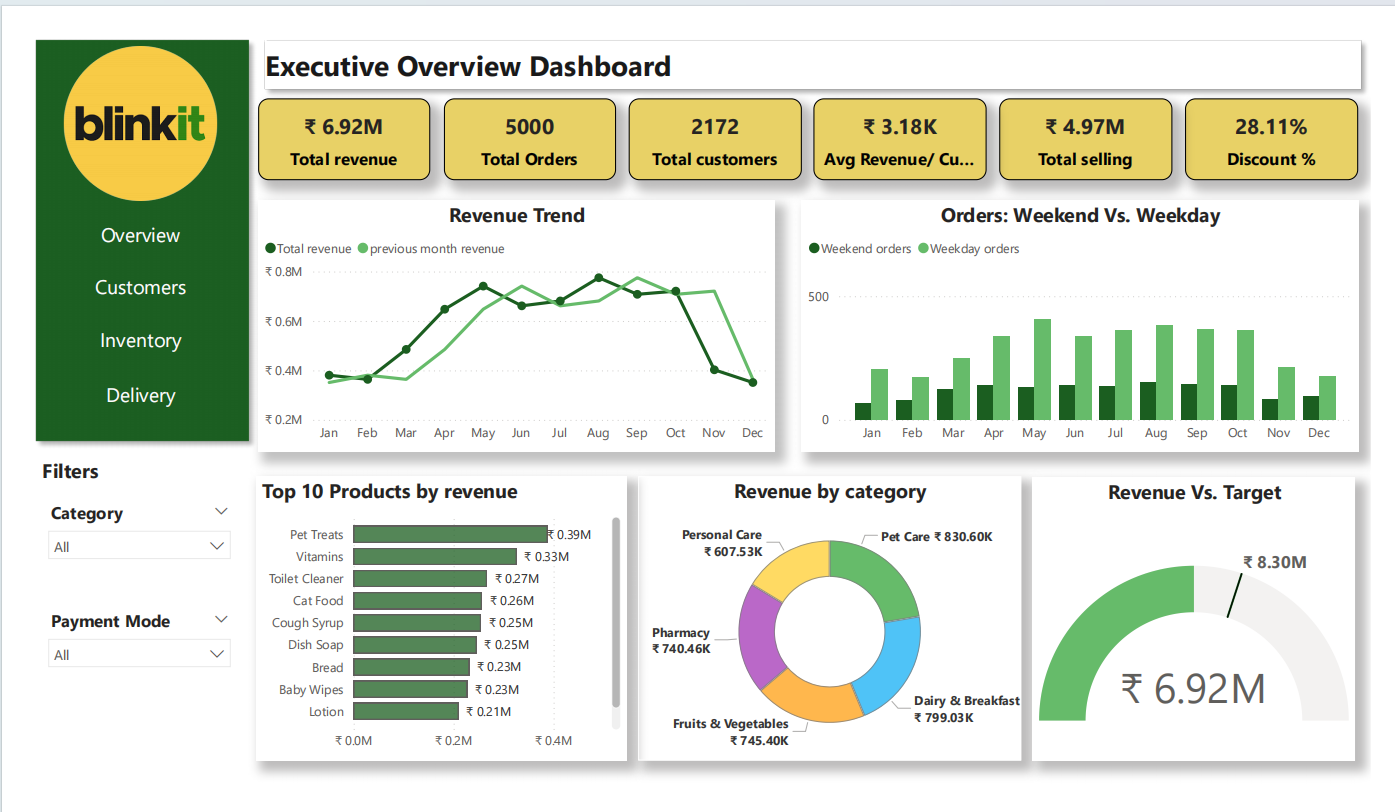

The page's visual inventory and layout, read from the dashboard file:
{"tool":"powerbi","page":{"name":"Page 1","canvas":[1280,720],"ordinal":0},"visuals":[{"type":"shape","box":[0,0,219.9,399.2],"z":0},{"type":"image","box":[12.5,14.6,190.3,146.4],"z":1000},{"type":"actionButton","box":[13,161.3,190.6,63.5],"z":2000},{"type":"actionButton","box":[13,212.7,190.6,58.7],"z":3000},{"type":"actionButton","box":[13,264.4,190.6,58.7],"z":4000},{"type":"actionButton","box":[13,316.1,190.6,58.7],"z":5000},{"type":"shape","title":"Executive Overview Dashboard","box":[218.3,0,1060.6,63.5],"z":6000},{"type":"slicer","title":"Category","fields":{"Values":["Customers.City"]},"box":[9.8,443.1,193.9,86.3],"z":7000},{"type":"textbox","box":[9.8,400.8,210.2,42.4],"z":8000},{"type":"slicer","title":"Category","fields":{"Values":["Customers.customer_segment"]},"box":[9.8,545.8,193.9,86.3],"z":9000},{"type":"card","fields":{"Values":["Dax measures.Total revenue"]},"box":[219.9,63.5,164.5,78.2],"z":10000},{"type":"card","fields":{"Values":["Dax measures.Total Orders"]},"box":[396.5,63.5,164.5,78.2],"z":11000},{"type":"card","fields":{"Values":["Dax measures.Total customers"]},"box":[573.1,63.5,164.5,78.2],"z":12000},{"type":"card","fields":{"Values":["Dax measures.Discount %"]},"box":[1103,63.5,164.5,78.2],"z":13000},{"type":"card","fields":{"Values":["Dax measures.Total selling"]},"box":[926.4,63.5,164.5,78.2],"z":14000},{"type":"card","fields":{"Values":["Dax measures.Avg revenue per customer"]},"box":[749.4,63.5,164.5,78.2],"z":15000},{"type":"lineChart","title":"Revenue Trend","fields":{"Category":["Calender.Month"],"Y":["Dax measures.Total revenue"],"Y2":["Dax measures.previous month revenue"]},"box":[219.9,161.3,492,239.5],"z":16000},{"type":"clusteredColumnChart","title":"Orders: Weekend Vs. Weekday","fields":{"Category":["Calender.Month"],"Y":["Dax measures.Weekend orders","Dax measures.Weekday orders"]},"box":[738,161.3,529.5,239.5],"z":17000},{"type":"clusteredBarChart","title":"Top 10 Products by revenue","fields":{"Category":["Products.product_name"],"Y":["Dax measures.Total revenue"]},"box":[217.8,424.1,353.5,270.4],"z":18000},{"type":"donutChart","title":"Revenue by category","fields":{"Category":["Products.category"],"Y":["Dax measures.Total revenue"]},"box":[582.1,424.1,364.9,270.4],"z":19000},{"type":"gauge","title":"Revenue Vs. Target","fields":{"TargetValue":["Dax measures.Revenue target"],"Y":["Dax measures.Total revenue"]},"box":[957.8,424.6,307,270],"z":20000}]}

Visuals, with their boxes on the page's 1280x720 design canvas (x1, y1, x2, y2). These are canvas units, not pixel positions in the 1395x812 screenshot, which may show the page scaled, cropped or inside an application window:
shape: 0, 0, 220, 399
image: 12, 15, 203, 161
actionButton: 13, 161, 204, 225
actionButton: 13, 213, 204, 271
actionButton: 13, 264, 204, 323
actionButton: 13, 316, 204, 375
"Executive Overview Dashboard" shape: 218, 0, 1279, 64
"Category" slicer: 10, 443, 204, 529
textbox: 10, 401, 220, 443
"Category" slicer: 10, 546, 204, 632
card - Dax measures.Total revenue: 220, 64, 384, 142
card - Dax measures.Total Orders: 396, 64, 561, 142
card - Dax measures.Total customers: 573, 64, 738, 142
card - Dax measures.Discount %: 1103, 64, 1268, 142
card - Dax measures.Total selling: 926, 64, 1091, 142
card - Dax measures.Avg revenue per customer: 749, 64, 914, 142
"Revenue Trend" lineChart: 220, 161, 712, 401
"Orders: Weekend Vs. Weekday" clusteredColumnChart: 738, 161, 1268, 401
"Top 10 Products by revenue" clusteredBarChart: 218, 424, 571, 694
"Revenue by category" donutChart: 582, 424, 947, 694
"Revenue Vs. Target" gauge: 958, 425, 1265, 695
